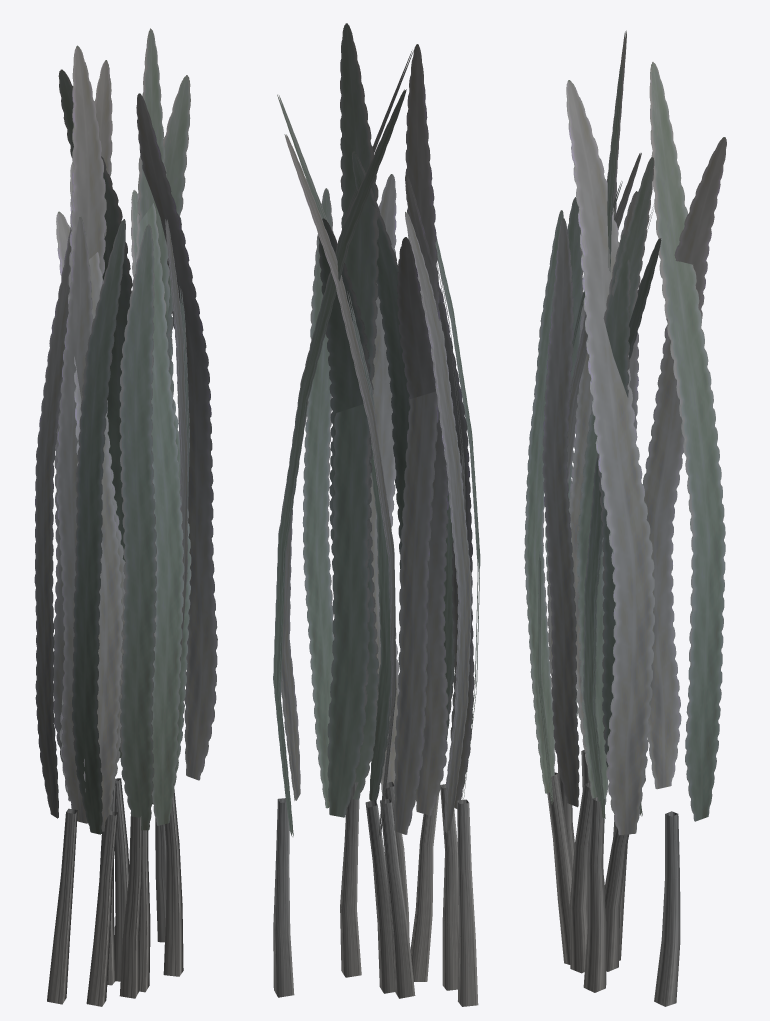
Rendered from kelp_short_l0.gltf.
3 views of the same model, side by side, from view 1: azimuth 30°, elevation 25°; view 2: azimuth 150°, elevation 25°; view 3: azimuth 270°, elevation 25° (orthographic). The views are drawn at different scales.
Visible parts, largest first — view 1: kelp_short_l0; view 2: kelp_short_l0; view 3: kelp_short_l0.
Part boxes in pixels (box(x1,y1,x2,y2)): kelp_short_l0: box(34, 28, 217, 1006); kelp_short_l0: box(273, 23, 480, 1006); kelp_short_l0: box(524, 30, 726, 1006).
Size of the model in its own units: 0.6 by 2.72 by 0.6453.
Materials: 1 (1 with a texture image).
